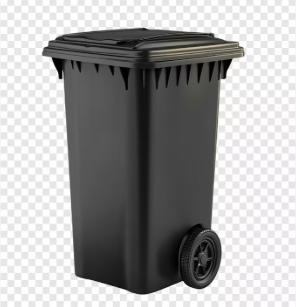garbage container: (38, 24, 248, 298)
